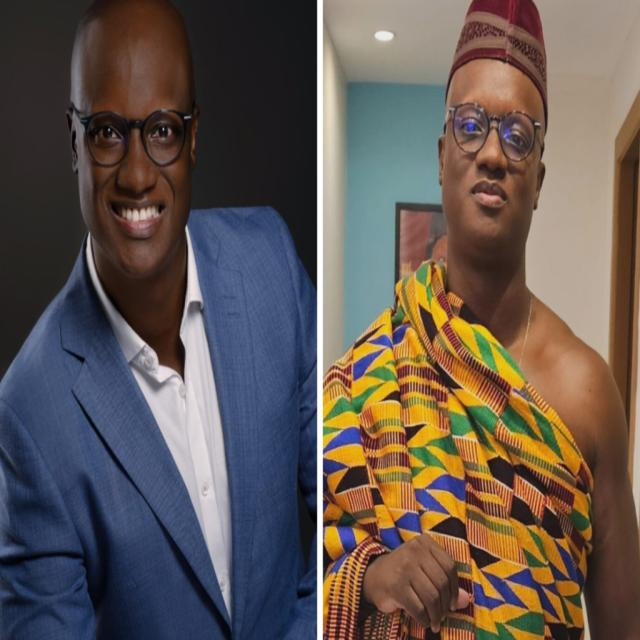sem_oculos: (63, 82, 199, 162), (437, 90, 548, 158)
